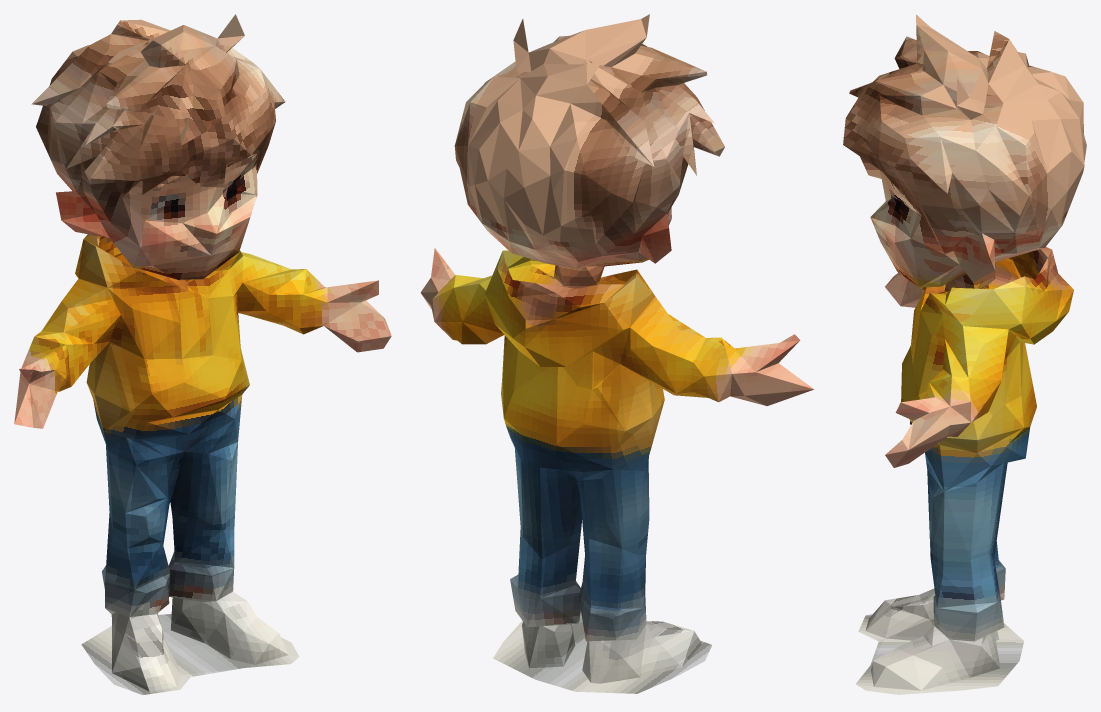
File: noam.glb
3 views of the same model, side by side, from view 1: azimuth 30°, elevation 25°; view 2: azimuth 150°, elevation 25°; view 3: azimuth 270°, elevation 25° (orthographic). The views are drawn at different scales.
Visible parts, largest first — view 1: geometry_0; view 2: geometry_0; view 3: geometry_0.
Boxes of the visible parts, box(x1,y1,x2,y2) form: geometry_0: box(14, 14, 391, 694); geometry_0: box(420, 14, 813, 693); geometry_0: box(843, 14, 1086, 694).
Bounding box in the file's own units: 1.1 × 1.75 × 0.6223.
1 material, 1 textured.
